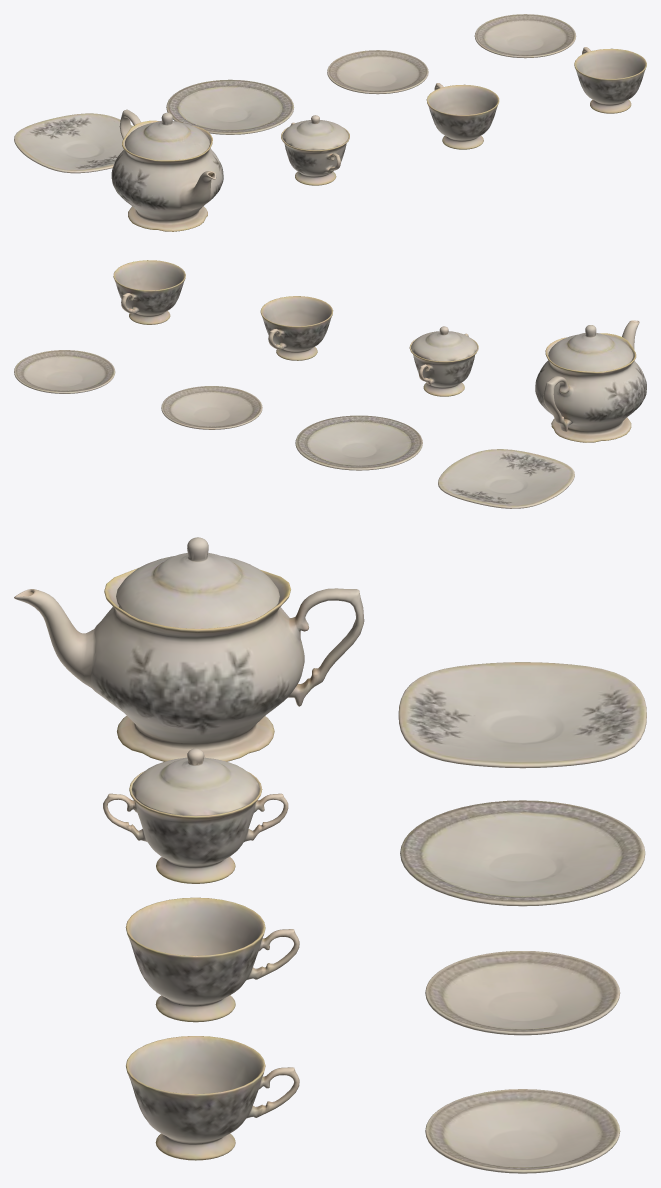
Rendered from tea_set_01.glb.
The picture shows the model from 3 angles, top to bottom: view 1: azimuth 30°, elevation 25°; view 2: azimuth 150°, elevation 25°; view 3: azimuth 270°, elevation 25°; orthographic projection. The views are drawn at different scales.
Parts seen in each view (by area): view 1: tea_set_01_plate_large_square_01; view 2: tea_set_01_plate_large_square_01; view 3: tea_set_01_plate_large_square_01.
Boxes of the visible parts, left/top/right/bottom form: tea_set_01_plate_large_square_01: left=14, top=14, right=646, bottom=231; tea_set_01_plate_large_square_01: left=14, top=260, right=646, bottom=508; tea_set_01_plate_large_square_01: left=14, top=537, right=646, bottom=1173.
Size of the model in its own units: 0.9185 by 0.1649 by 0.4839.
Materials: 1 (1 with a texture image).
